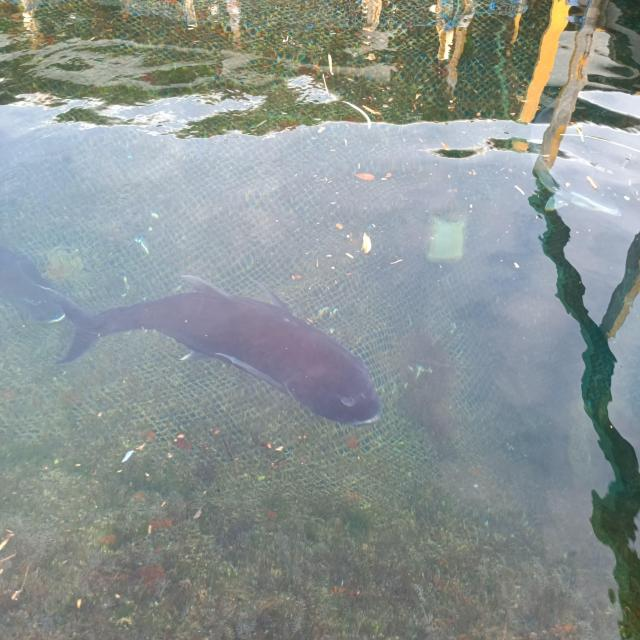ikan: (31, 259, 422, 449)
